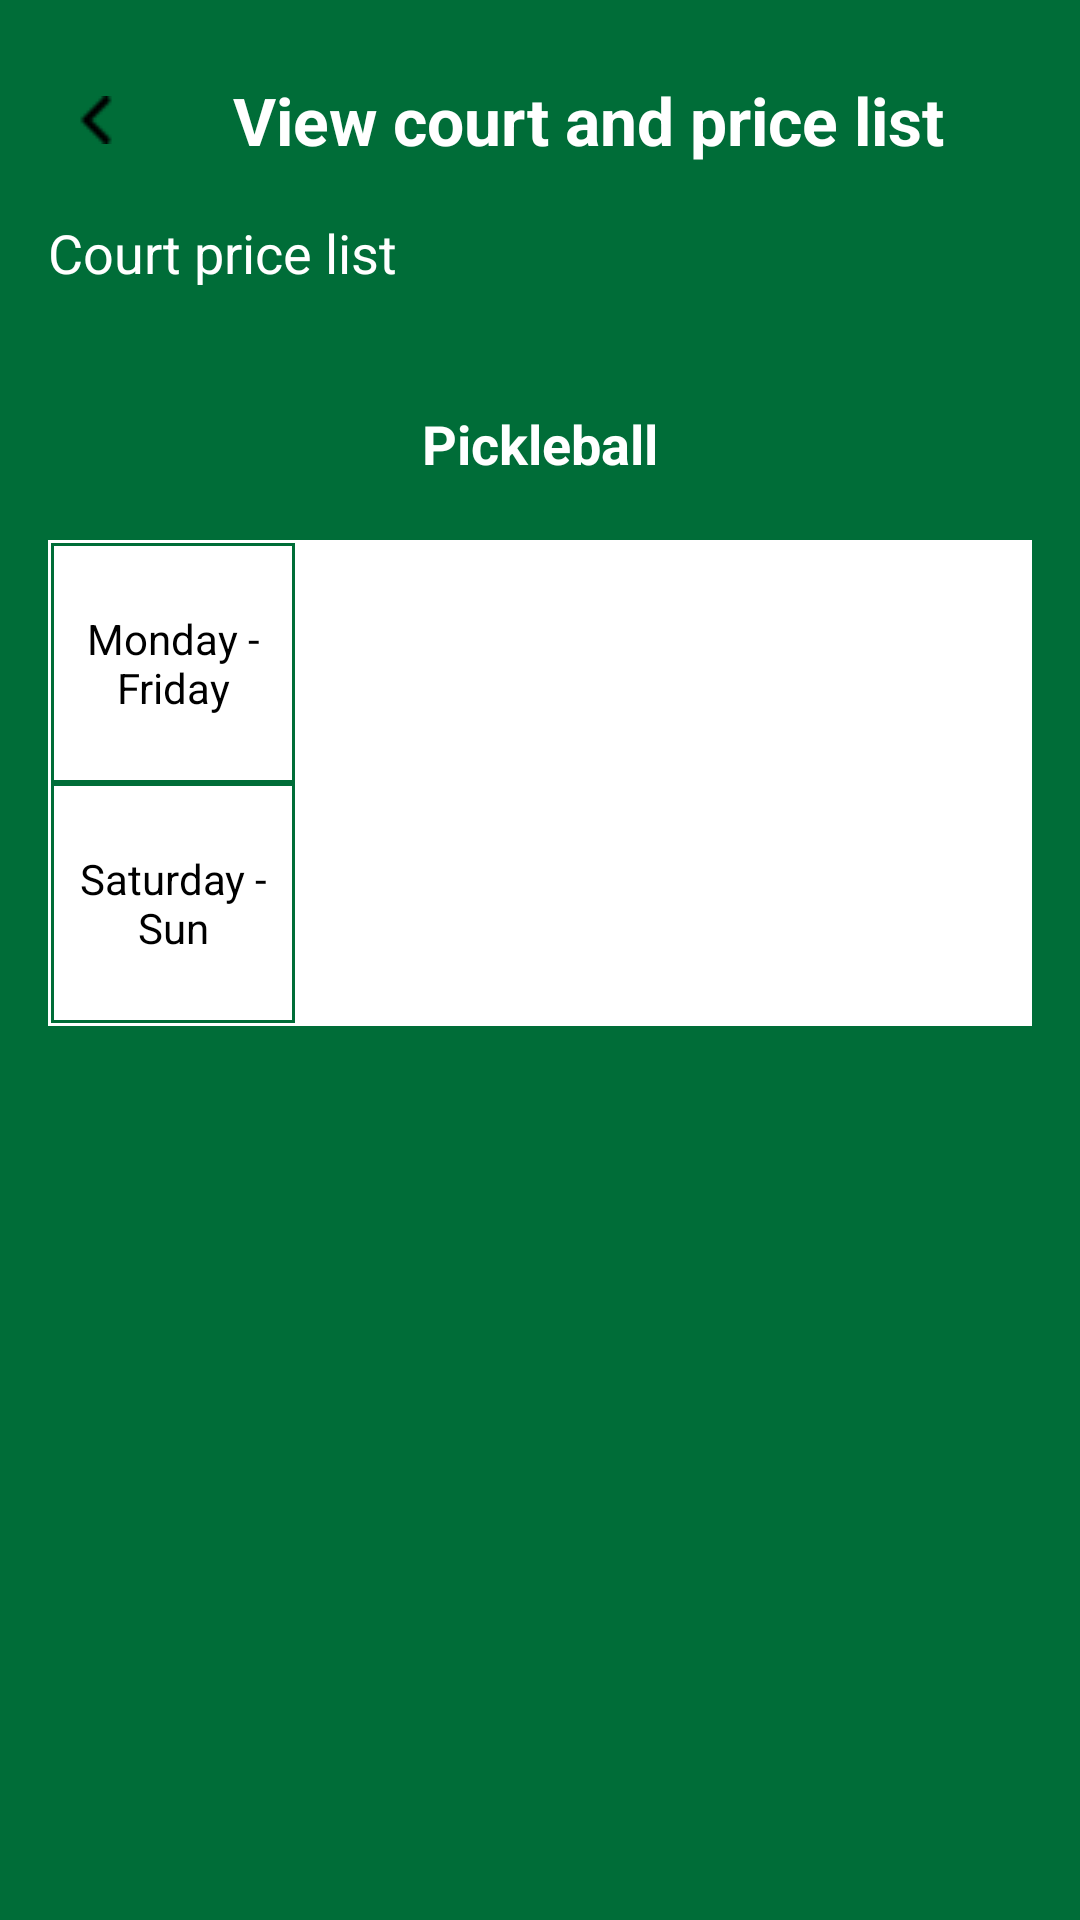

Locate icon controls on the screen. Image size 1080 x 1920, boxes as (x1, y1, x2, y2).
Back: (81, 96, 111, 144)
